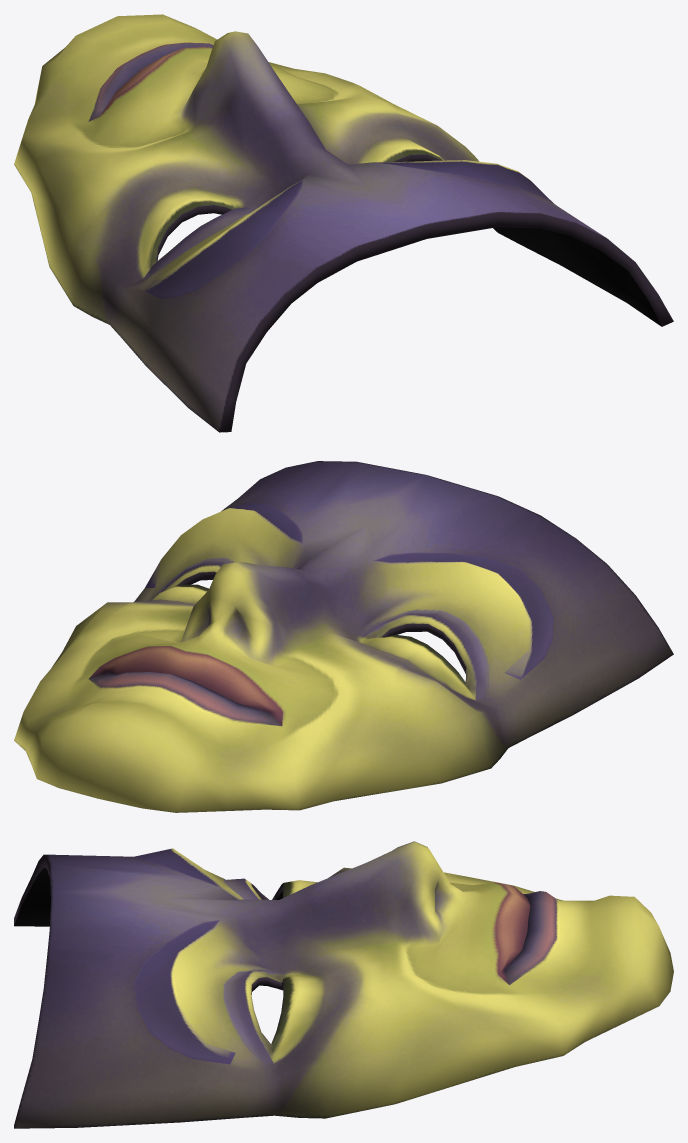
The model's file is anim1_000133.obj.
3 views of the same model, one above another, from view 1: azimuth 30°, elevation 25°; view 2: azimuth 150°, elevation 25°; view 3: azimuth 270°, elevation 25° (orthographic). The views are drawn at different scales.
Visible parts, largest first — view 1: 151out; view 2: 151out; view 3: 151out.
Part boxes in pixels (x1,y1,x2,y2): 151out: (14,14,673,432); 151out: (14,461,673,812); 151out: (14,841,673,1128).
Size of the model in its own units: 4.16 by 1.69 by 5.52.
